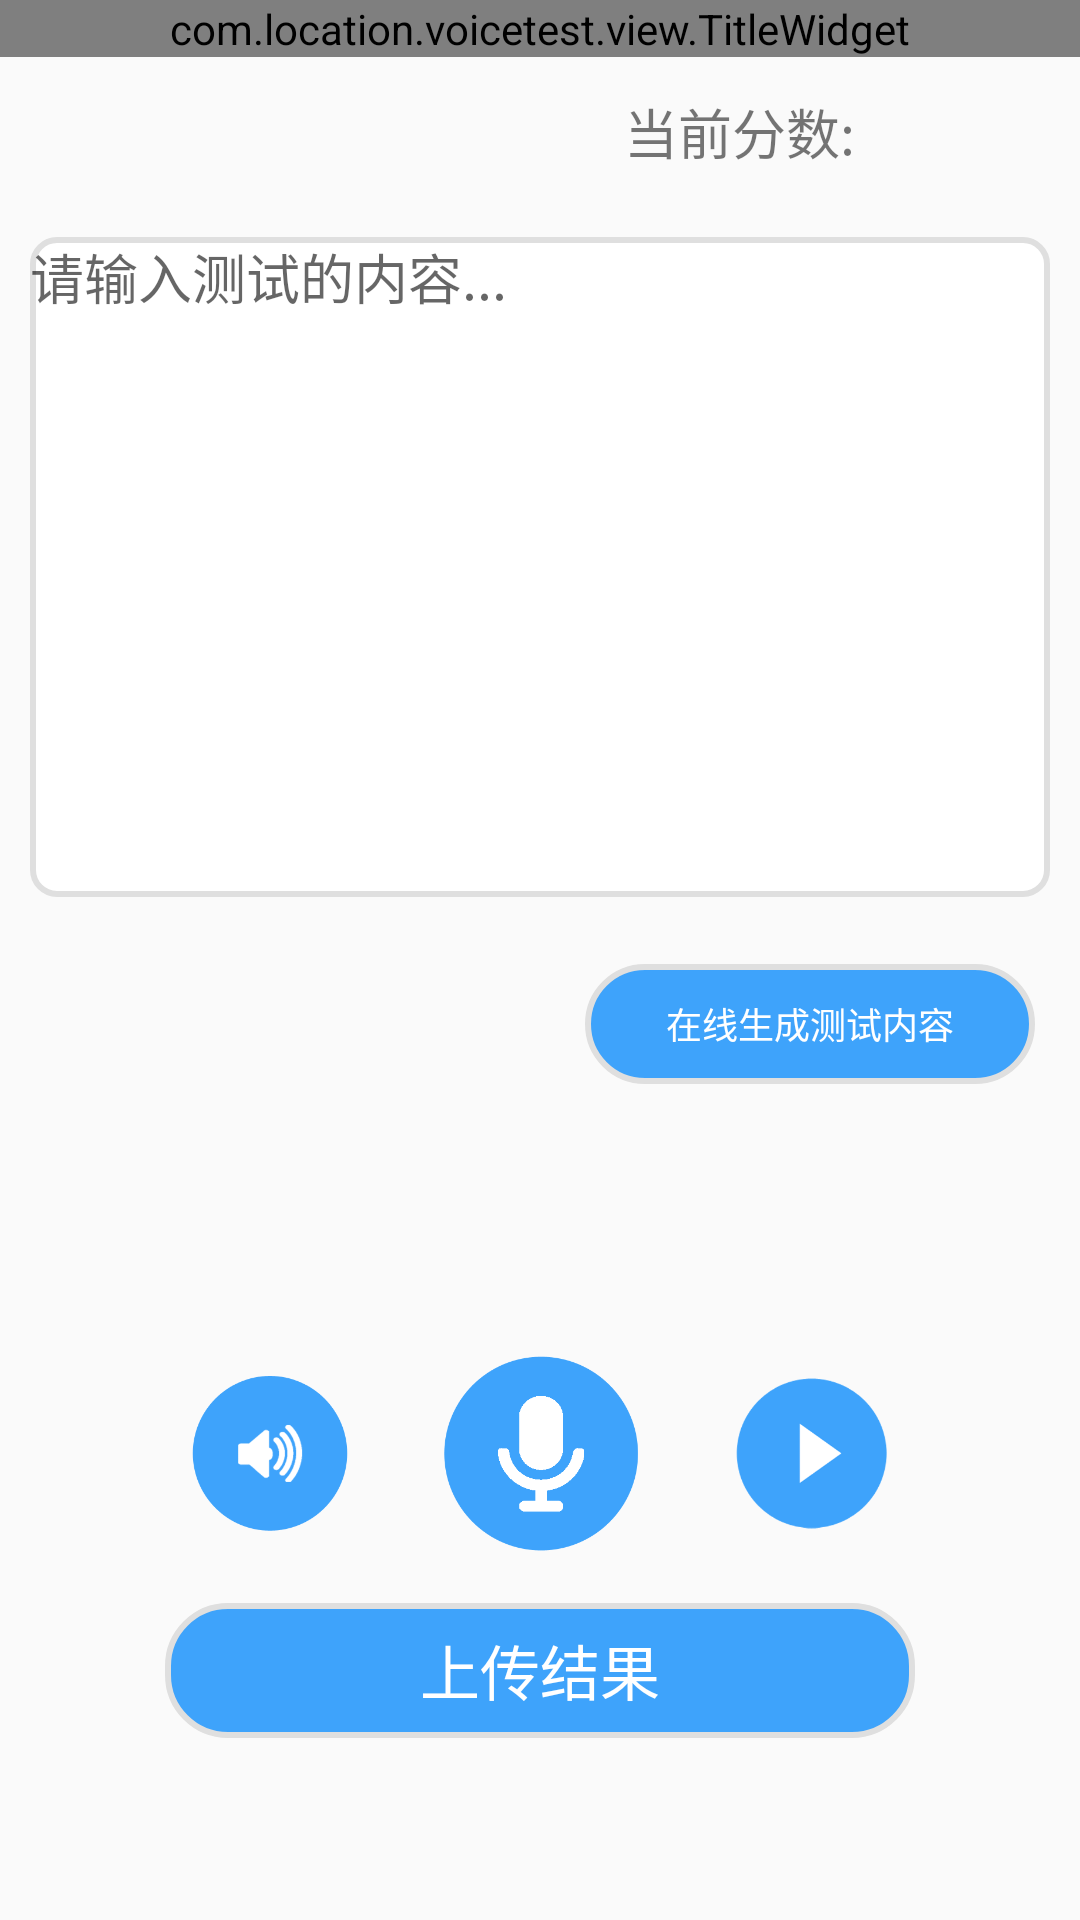

Locate icon controls on the screen. Image size 1080*1920, boxes as rect(x1, y1, x2, y2).
bofangone: rect(736, 1378, 887, 1529)
luyinone: rect(444, 1356, 638, 1551)
yinliangone: rect(192, 1376, 348, 1531)
